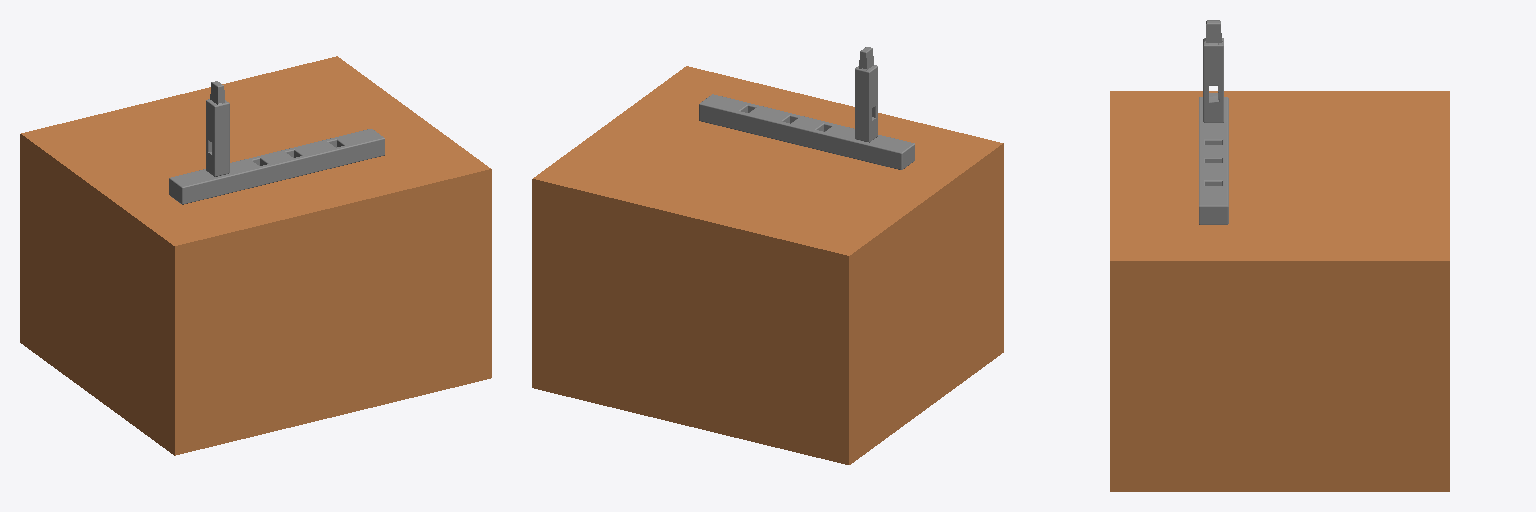
The robot description file, URDF, robot "table_beam_2x_0_scene_0040":
<?xml version="1.0"?>
<robot name="table_beam_2x_0_scene_0040">
  <link name="box">
    <visual>
      <material name="wood"><color rgba="0.82 0.56 0.35 1.0"/></material>
      <origin xyz="0 0 0"/>
      <geometry><box size="0.475 0.4 0.3"/></geometry>
    </visual>
    <collision>
      <origin xyz="0 0 0"/>
      <geometry><box size="0.475 0.4 0.3"/></geometry>
    </collision>
    <inertial>
      <mass value="500"/>
      <friction value="1.0"/>
      <inertia ixx="1000.0" ixy="0.0" ixz="0.0" iyy="1000.0" iyz="0.0" izz="1000.0"/>
    </inertial>
  </link>
  <link name="part_6_canonical">
    <visual>
      <origin xyz="0 0 0" rpy="0 0 0"/>
      <geometry><mesh filename="../../6/6_canonical.obj" scale="1 1 1"/></geometry>
      <material name="placed_0"><color rgba="0.6 0.6 0.6 1.0"/></material>
    </visual>
    <collision>
      <origin xyz="0 0 0" rpy="0 0 0"/>
      <geometry><mesh filename="../../6/6_canonical.obj" scale="1 1 1"/></geometry>
    </collision>
  </link>
  <joint name="part_6_canonical_joint" type="fixed">
    <parent link="box"/>
    <child link="part_6_canonical"/>
    <origin xyz="-0.013620 -0.078219 0.162666" rpy="0.000000 0.000000 0.000000"/>
  </joint>
  <link name="part_2_hull_0">
    <visual>
      <origin xyz="0 0 0" rpy="0 0 0"/>
      <geometry><mesh filename="../../2/coacd/decomp_0.obj" scale="1 1 1"/></geometry>
      <material name="placed_1"><color rgba="0.6 0.6 0.6 1.0"/></material>
    </visual>
    <collision>
      <origin xyz="0 0 0" rpy="0 0 0"/>
      <geometry><mesh filename="../../2/coacd/decomp_0.obj" scale="1 1 1"/></geometry>
    </collision>
  </link>
  <joint name="part_2_hull_0_joint" type="fixed">
    <parent link="box"/>
    <child link="part_2_hull_0"/>
    <origin xyz="-0.102547 -0.078219 0.225384" rpy="0.000000 -1.570796 0.000000"/>
  </joint>
  <link name="part_2_hull_1">
    <visual>
      <origin xyz="0 0 0" rpy="0 0 0"/>
      <geometry><mesh filename="../../2/coacd/decomp_1.obj" scale="1 1 1"/></geometry>
      <material name="placed_2"><color rgba="0.6 0.6 0.6 1.0"/></material>
    </visual>
    <collision>
      <origin xyz="0 0 0" rpy="0 0 0"/>
      <geometry><mesh filename="../../2/coacd/decomp_1.obj" scale="1 1 1"/></geometry>
    </collision>
  </link>
  <joint name="part_2_hull_1_joint" type="fixed">
    <parent link="box"/>
    <child link="part_2_hull_1"/>
    <origin xyz="-0.102547 -0.078219 0.225384" rpy="0.000000 -1.570796 0.000000"/>
  </joint>
  <link name="part_2_hull_2">
    <visual>
      <origin xyz="0 0 0" rpy="0 0 0"/>
      <geometry><mesh filename="../../2/coacd/decomp_10.obj" scale="1 1 1"/></geometry>
      <material name="placed_3"><color rgba="0.6 0.6 0.6 1.0"/></material>
    </visual>
    <collision>
      <origin xyz="0 0 0" rpy="0 0 0"/>
      <geometry><mesh filename="../../2/coacd/decomp_10.obj" scale="1 1 1"/></geometry>
    </collision>
  </link>
  <joint name="part_2_hull_2_joint" type="fixed">
    <parent link="box"/>
    <child link="part_2_hull_2"/>
    <origin xyz="-0.102547 -0.078219 0.225384" rpy="0.000000 -1.570796 0.000000"/>
  </joint>
  <link name="part_2_hull_3">
    <visual>
      <origin xyz="0 0 0" rpy="0 0 0"/>
      <geometry><mesh filename="../../2/coacd/decomp_11.obj" scale="1 1 1"/></geometry>
      <material name="placed_4"><color rgba="0.6 0.6 0.6 1.0"/></material>
    </visual>
    <collision>
      <origin xyz="0 0 0" rpy="0 0 0"/>
      <geometry><mesh filename="../../2/coacd/decomp_11.obj" scale="1 1 1"/></geometry>
    </collision>
  </link>
  <joint name="part_2_hull_3_joint" type="fixed">
    <parent link="box"/>
    <child link="part_2_hull_3"/>
    <origin xyz="-0.102547 -0.078219 0.225384" rpy="0.000000 -1.570796 0.000000"/>
  </joint>
  <link name="part_2_hull_4">
    <visual>
      <origin xyz="0 0 0" rpy="0 0 0"/>
      <geometry><mesh filename="../../2/coacd/decomp_12.obj" scale="1 1 1"/></geometry>
      <material name="placed_5"><color rgba="0.6 0.6 0.6 1.0"/></material>
    </visual>
    <collision>
      <origin xyz="0 0 0" rpy="0 0 0"/>
      <geometry><mesh filename="../../2/coacd/decomp_12.obj" scale="1 1 1"/></geometry>
    </collision>
  </link>
  <joint name="part_2_hull_4_joint" type="fixed">
    <parent link="box"/>
    <child link="part_2_hull_4"/>
    <origin xyz="-0.102547 -0.078219 0.225384" rpy="0.000000 -1.570796 0.000000"/>
  </joint>
  <link name="part_2_hull_5">
    <visual>
      <origin xyz="0 0 0" rpy="0 0 0"/>
      <geometry><mesh filename="../../2/coacd/decomp_13.obj" scale="1 1 1"/></geometry>
      <material name="placed_6"><color rgba="0.6 0.6 0.6 1.0"/></material>
    </visual>
    <collision>
      <origin xyz="0 0 0" rpy="0 0 0"/>
      <geometry><mesh filename="../../2/coacd/decomp_13.obj" scale="1 1 1"/></geometry>
    </collision>
  </link>
  <joint name="part_2_hull_5_joint" type="fixed">
    <parent link="box"/>
    <child link="part_2_hull_5"/>
    <origin xyz="-0.102547 -0.078219 0.225384" rpy="0.000000 -1.570796 0.000000"/>
  </joint>
  <link name="part_2_hull_6">
    <visual>
      <origin xyz="0 0 0" rpy="0 0 0"/>
      <geometry><mesh filename="../../2/coacd/decomp_14.obj" scale="1 1 1"/></geometry>
      <material name="placed_7"><color rgba="0.6 0.6 0.6 1.0"/></material>
    </visual>
    <collision>
      <origin xyz="0 0 0" rpy="0 0 0"/>
      <geometry><mesh filename="../../2/coacd/decomp_14.obj" scale="1 1 1"/></geometry>
    </collision>
  </link>
  <joint name="part_2_hull_6_joint" type="fixed">
    <parent link="box"/>
    <child link="part_2_hull_6"/>
    <origin xyz="-0.102547 -0.078219 0.225384" rpy="0.000000 -1.570796 0.000000"/>
  </joint>
  <link name="part_2_hull_7">
    <visual>
      <origin xyz="0 0 0" rpy="0 0 0"/>
      <geometry><mesh filename="../../2/coacd/decomp_15.obj" scale="1 1 1"/></geometry>
      <material name="placed_8"><color rgba="0.6 0.6 0.6 1.0"/></material>
    </visual>
    <collision>
      <origin xyz="0 0 0" rpy="0 0 0"/>
      <geometry><mesh filename="../../2/coacd/decomp_15.obj" scale="1 1 1"/></geometry>
    </collision>
  </link>
  <joint name="part_2_hull_7_joint" type="fixed">
    <parent link="box"/>
    <child link="part_2_hull_7"/>
    <origin xyz="-0.102547 -0.078219 0.225384" rpy="0.000000 -1.570796 0.000000"/>
  </joint>
  <link name="part_2_hull_8">
    <visual>
      <origin xyz="0 0 0" rpy="0 0 0"/>
      <geometry><mesh filename="../../2/coacd/decomp_2.obj" scale="1 1 1"/></geometry>
      <material name="placed_9"><color rgba="0.6 0.6 0.6 1.0"/></material>
    </visual>
    <collision>
      <origin xyz="0 0 0" rpy="0 0 0"/>
      <geometry><mesh filename="../../2/coacd/decomp_2.obj" scale="1 1 1"/></geometry>
    </collision>
  </link>
  <joint name="part_2_hull_8_joint" type="fixed">
    <parent link="box"/>
    <child link="part_2_hull_8"/>
    <origin xyz="-0.102547 -0.078219 0.225384" rpy="0.000000 -1.570796 0.000000"/>
  </joint>
  <link name="part_2_hull_9">
    <visual>
      <origin xyz="0 0 0" rpy="0 0 0"/>
      <geometry><mesh filename="../../2/coacd/decomp_3.obj" scale="1 1 1"/></geometry>
      <material name="placed_10"><color rgba="0.6 0.6 0.6 1.0"/></material>
    </visual>
    <collision>
      <origin xyz="0 0 0" rpy="0 0 0"/>
      <geometry><mesh filename="../../2/coacd/decomp_3.obj" scale="1 1 1"/></geometry>
    </collision>
  </link>
  <joint name="part_2_hull_9_joint" type="fixed">
    <parent link="box"/>
    <child link="part_2_hull_9"/>
    <origin xyz="-0.102547 -0.078219 0.225384" rpy="0.000000 -1.570796 0.000000"/>
  </joint>
  <link name="part_2_hull_10">
    <visual>
      <origin xyz="0 0 0" rpy="0 0 0"/>
      <geometry><mesh filename="../../2/coacd/decomp_4.obj" scale="1 1 1"/></geometry>
      <material name="placed_11"><color rgba="0.6 0.6 0.6 1.0"/></material>
    </visual>
    <collision>
      <origin xyz="0 0 0" rpy="0 0 0"/>
      <geometry><mesh filename="../../2/coacd/decomp_4.obj" scale="1 1 1"/></geometry>
    </collision>
  </link>
  <joint name="part_2_hull_10_joint" type="fixed">
    <parent link="box"/>
    <child link="part_2_hull_10"/>
    <origin xyz="-0.102547 -0.078219 0.225384" rpy="0.000000 -1.570796 0.000000"/>
  </joint>
  <link name="part_2_hull_11">
    <visual>
      <origin xyz="0 0 0" rpy="0 0 0"/>
      <geometry><mesh filename="../../2/coacd/decomp_5.obj" scale="1 1 1"/></geometry>
      <material name="placed_12"><color rgba="0.6 0.6 0.6 1.0"/></material>
    </visual>
    <collision>
      <origin xyz="0 0 0" rpy="0 0 0"/>
      <geometry><mesh filename="../../2/coacd/decomp_5.obj" scale="1 1 1"/></geometry>
    </collision>
  </link>
  <joint name="part_2_hull_11_joint" type="fixed">
    <parent link="box"/>
    <child link="part_2_hull_11"/>
    <origin xyz="-0.102547 -0.078219 0.225384" rpy="0.000000 -1.570796 0.000000"/>
  </joint>
  <link name="part_2_hull_12">
    <visual>
      <origin xyz="0 0 0" rpy="0 0 0"/>
      <geometry><mesh filename="../../2/coacd/decomp_6.obj" scale="1 1 1"/></geometry>
      <material name="placed_13"><color rgba="0.6 0.6 0.6 1.0"/></material>
    </visual>
    <collision>
      <origin xyz="0 0 0" rpy="0 0 0"/>
      <geometry><mesh filename="../../2/coacd/decomp_6.obj" scale="1 1 1"/></geometry>
    </collision>
  </link>
  <joint name="part_2_hull_12_joint" type="fixed">
    <parent link="box"/>
    <child link="part_2_hull_12"/>
    <origin xyz="-0.102547 -0.078219 0.225384" rpy="0.000000 -1.570796 0.000000"/>
  </joint>
  <link name="part_2_hull_13">
    <visual>
      <origin xyz="0 0 0" rpy="0 0 0"/>
      <geometry><mesh filename="../../2/coacd/decomp_7.obj" scale="1 1 1"/></geometry>
      <material name="placed_14"><color rgba="0.6 0.6 0.6 1.0"/></material>
    </visual>
    <collision>
      <origin xyz="0 0 0" rpy="0 0 0"/>
      <geometry><mesh filename="../../2/coacd/decomp_7.obj" scale="1 1 1"/></geometry>
    </collision>
  </link>
  <joint name="part_2_hull_13_joint" type="fixed">
    <parent link="box"/>
    <child link="part_2_hull_13"/>
    <origin xyz="-0.102547 -0.078219 0.225384" rpy="0.000000 -1.570796 0.000000"/>
  </joint>
  <link name="part_2_hull_14">
    <visual>
      <origin xyz="0 0 0" rpy="0 0 0"/>
      <geometry><mesh filename="../../2/coacd/decomp_8.obj" scale="1 1 1"/></geometry>
      <material name="placed_15"><color rgba="0.6 0.6 0.6 1.0"/></material>
    </visual>
    <collision>
      <origin xyz="0 0 0" rpy="0 0 0"/>
      <geometry><mesh filename="../../2/coacd/decomp_8.obj" scale="1 1 1"/></geometry>
    </collision>
  </link>
  <joint name="part_2_hull_14_joint" type="fixed">
    <parent link="box"/>
    <child link="part_2_hull_14"/>
    <origin xyz="-0.102547 -0.078219 0.225384" rpy="0.000000 -1.570796 0.000000"/>
  </joint>
  <link name="part_2_hull_15">
    <visual>
      <origin xyz="0 0 0" rpy="0 0 0"/>
      <geometry><mesh filename="../../2/coacd/decomp_9.obj" scale="1 1 1"/></geometry>
      <material name="placed_16"><color rgba="0.6 0.6 0.6 1.0"/></material>
    </visual>
    <collision>
      <origin xyz="0 0 0" rpy="0 0 0"/>
      <geometry><mesh filename="../../2/coacd/decomp_9.obj" scale="1 1 1"/></geometry>
    </collision>
  </link>
  <joint name="part_2_hull_15_joint" type="fixed">
    <parent link="box"/>
    <child link="part_2_hull_15"/>
    <origin xyz="-0.102547 -0.078219 0.225384" rpy="0.000000 -1.570796 0.000000"/>
  </joint>
</robot>

--- Facts derived from the render (not from the file) ---
Views: 3 orthographic renders of the robot side by side, from view 1: azimuth 30°, elevation 25°; view 2: azimuth 150°, elevation 25°; view 3: azimuth 270°, elevation 25°.
Robot: table_beam_2x_0_scene_0040 — 18 links, 17 joints (17 fixed); root link box; default pose: every joint at zero.
Visible links, largest first — view 1: box, part_6_canonical, part_2_hull_1; view 2: box, part_6_canonical; view 3: box, part_6_canonical.
Link boxes in pixels (x1=…): box: x1=20, y1=56, x2=491, y2=455; part_6_canonical: x1=169, y1=129, x2=384, y2=204; part_2_hull_1: x1=206, y1=99, x2=218, y2=143; box: x1=532, y1=66, x2=1003, y2=464; part_6_canonical: x1=699, y1=94, x2=914, y2=169; box: x1=1110, y1=91, x2=1449, y2=491; part_6_canonical: x1=1199, y1=97, x2=1228, y2=224.
Bounding box of the posed robot: 0.475 × 0.4 × 0.4524 m (x, y, z).
17 mesh visuals loaded from 17 distinct referenced files (17 OBJ).
